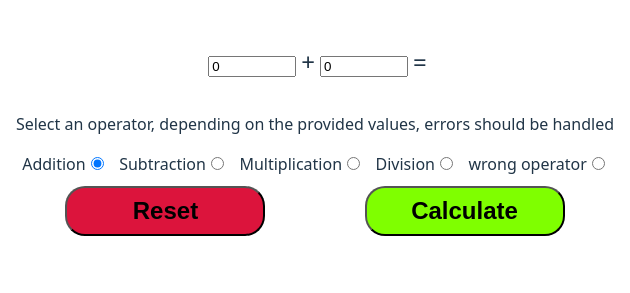
Test case: CalculateForm Test › Substractions › with positive numbers › second input is bigger, shows negative output
The width and height of the screenshot is (630, 293).
Click the radio button with id "substraction" at [217, 164], box [211, 157, 224, 170]
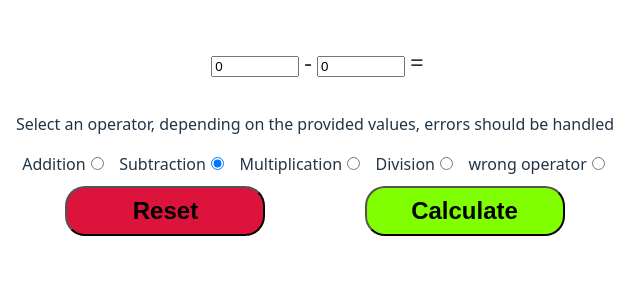
Replace the text in the number field with id "input1" with "2" at [255, 66], box [211, 56, 299, 77]
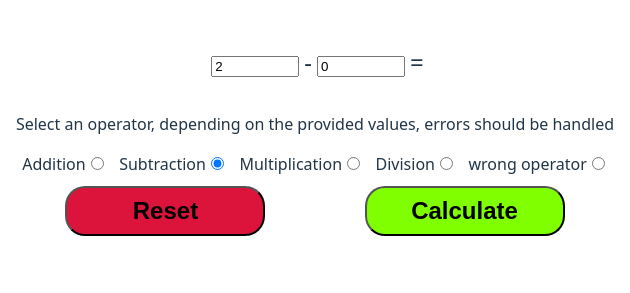
Replace the text in the number field with id "input2" with "5" at [361, 66], box [317, 56, 405, 77]
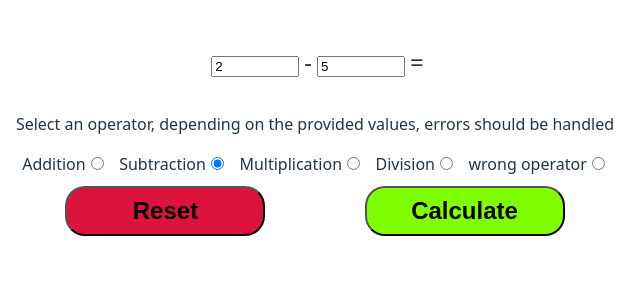
Click the button "Calculate" at [464, 211], box [364, 186, 564, 236]
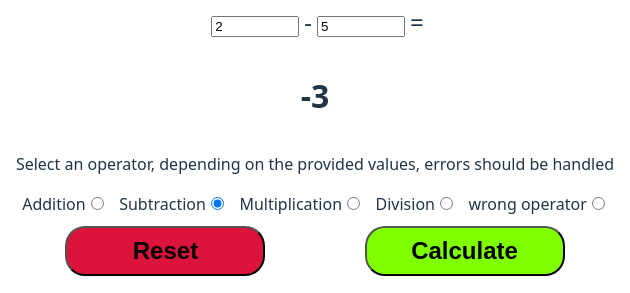
Result: the text with id "result" reads "-3" at [301, 74, 329, 117]
